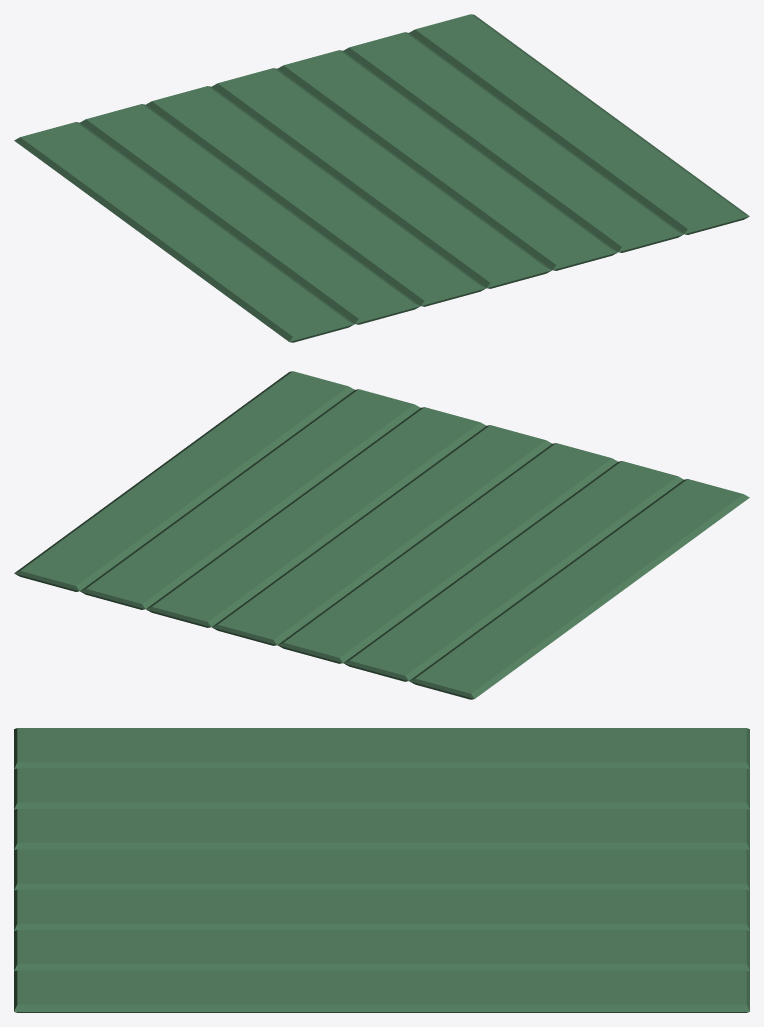
Rendered from priem_clos.fbx.
The picture shows the model from 3 angles, top to bottom: view 1: azimuth 30°, elevation 25°; view 2: azimuth 150°, elevation 25°; view 3: azimuth 270°, elevation 25°; orthographic projection. The views are drawn at different scales.
Parts seen in each view (by area): view 1: dveri2; view 2: dveri2; view 3: dveri2.
Boxes of the visible parts, x1=… form: dveri2: x1=14, y1=14, x2=749, y2=342; dveri2: x1=14, y1=371, x2=749, y2=699; dveri2: x1=14, y1=728, x2=749, y2=1012.
Size of the model in its own units: 18.65 by 0.7367 by 19.3.
